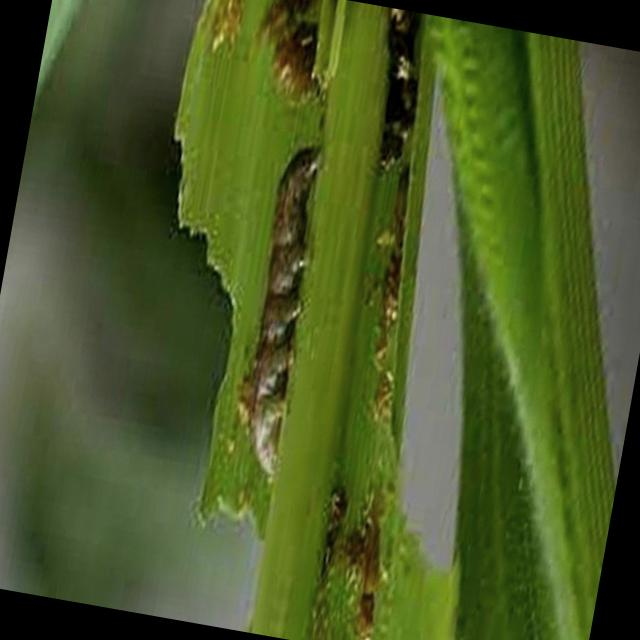pest: (222, 169, 328, 464)
